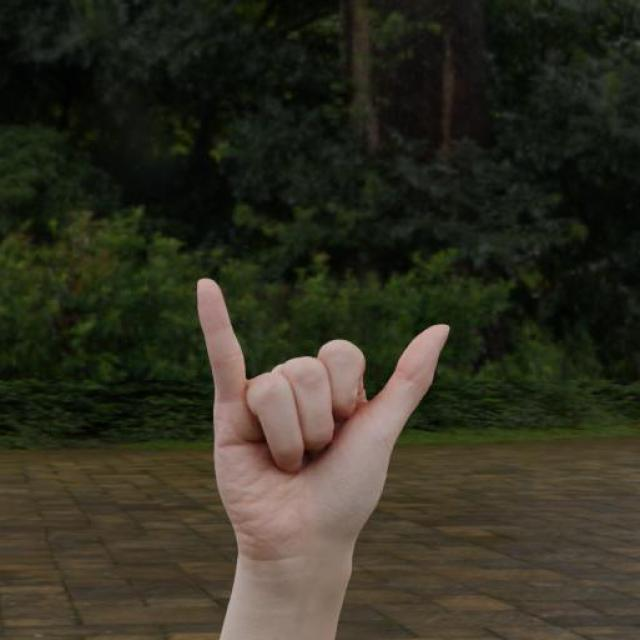Y: (192, 274, 455, 568)
